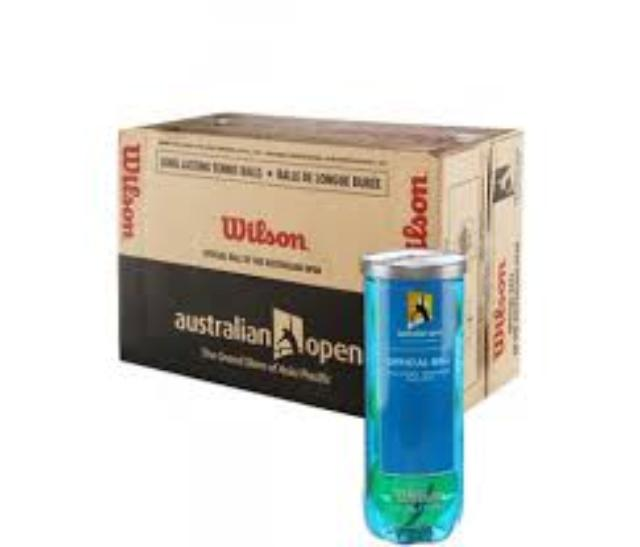cardboard paper: (116, 111, 516, 408)
